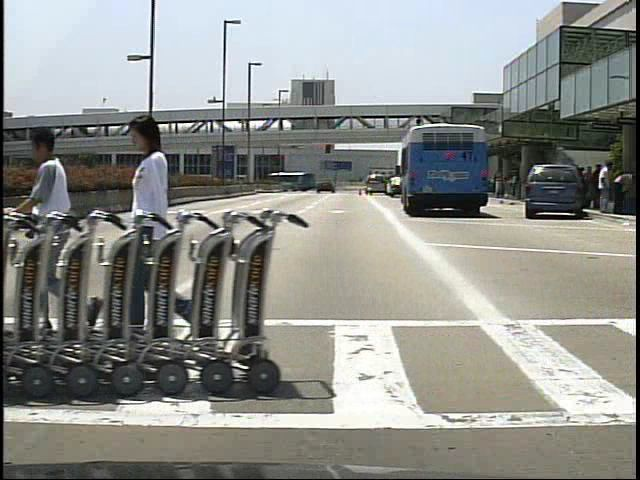person: (118, 110, 208, 351), (18, 121, 94, 340), (598, 160, 618, 215), (589, 164, 604, 214)
